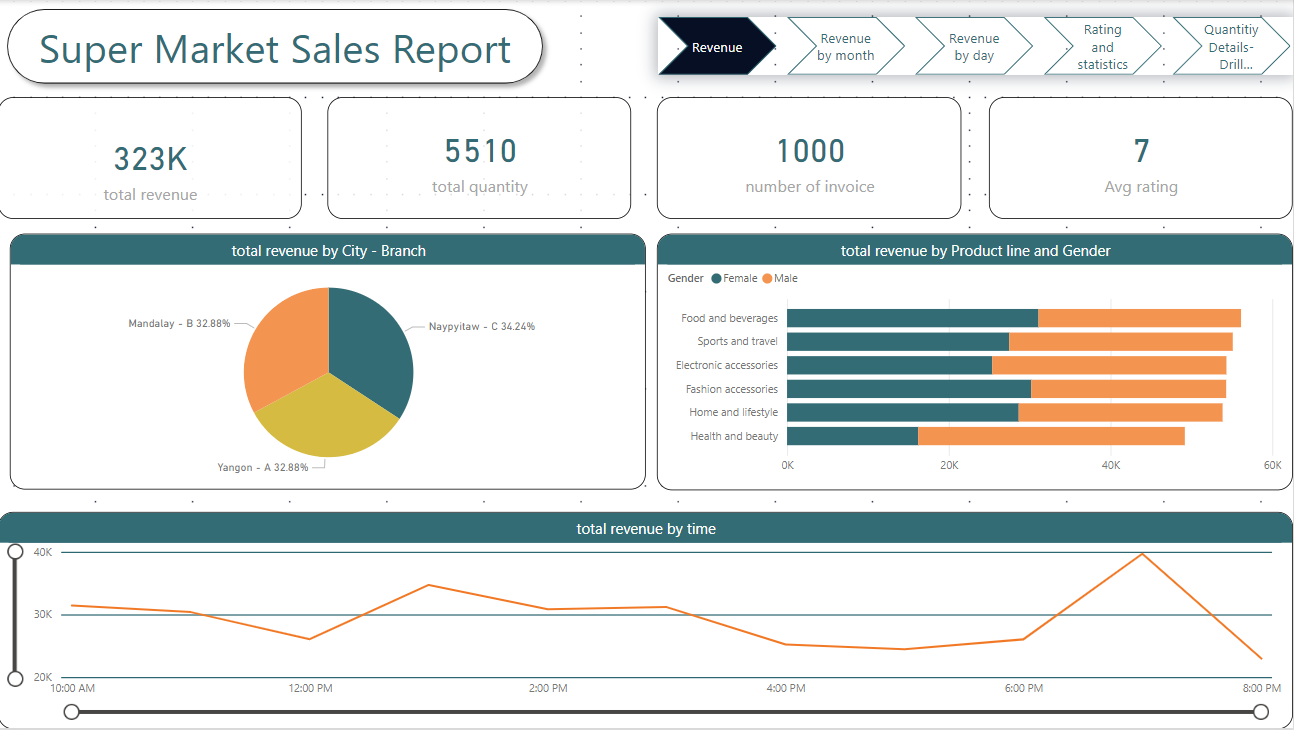

The page's visual inventory and layout, read from the dashboard file:
{"tool":"powerbi","page":{"name":" Revenue","canvas":[1280,720],"ordinal":0},"visuals":[{"type":"card","title":"Total Revenue","fields":{"Values":["DimDate.total revenue"]},"box":[0,96.4,300,120.2],"z":0},{"type":"card","fields":{"Values":["DimDate.Avg rating"]},"box":[979.8,96.4,300,120.2],"z":1000},{"type":"card","title":"Number  of Invoice","fields":{"Values":["DimDate.number of invoice"]},"box":[651.2,96.4,301.2,120.2],"z":2000},{"type":"card","fields":{"Values":["DimDate.total quantity"]},"box":[325,96.4,300,120.2],"z":3000},{"type":"pieChart","fields":{"Category":["SuperMarket Sales Final.City - Branch"],"Y":["DimDate.total revenue"]},"box":[11.1,231,628.9,253.2],"z":4000},{"type":"barChart","fields":{"Category":["SuperMarket Sales Final.Product line"],"Y":["DimDate.total revenue"],"Series":["SuperMarket Sales Final.Gender"]},"box":[651.5,230.4,628.6,253.4],"z":5000},{"type":"lineChart","title":"total revenue by time","fields":{"Category":["SuperMarket Sales Final.timebyduration"],"Y":["DimDate.total revenue"]},"box":[0,505.6,1279.7,214.7],"z":6000},{"type":"shape","box":[0,0,547.6,91.7],"z":8000},{"type":"pageNavigator","box":[652.4,16.7,627.4,57.1],"z":9000}]}

Visuals, with their boxes in screenshot pixels (x1, y1, x2, y2), scaled from the page's 1280x720 canvas onto the 1294x730 screenshot:
"Total Revenue" card: l=0, t=98, r=303, b=220
card - DimDate.Avg rating: l=991, t=98, r=1293, b=220
"Number  of Invoice" card: l=658, t=98, r=963, b=220
card - DimDate.total quantity: l=329, t=98, r=632, b=220
pieChart - SuperMarket Sales Final.City - Branch x DimDate.total revenue: l=11, t=234, r=647, b=491
barChart - SuperMarket Sales Final.Product line x DimDate.total revenue: l=659, t=234, r=1293, b=491
"total revenue by time" lineChart: l=0, t=513, r=1293, b=729
shape: l=0, t=0, r=554, b=93
pageNavigator: l=660, t=17, r=1293, b=75
